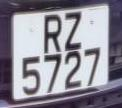2: (63, 49, 85, 94)
5: (20, 56, 43, 101)
7: (41, 52, 65, 98), (82, 44, 104, 92)
R: (39, 12, 65, 57)
Z: (63, 9, 86, 55)
